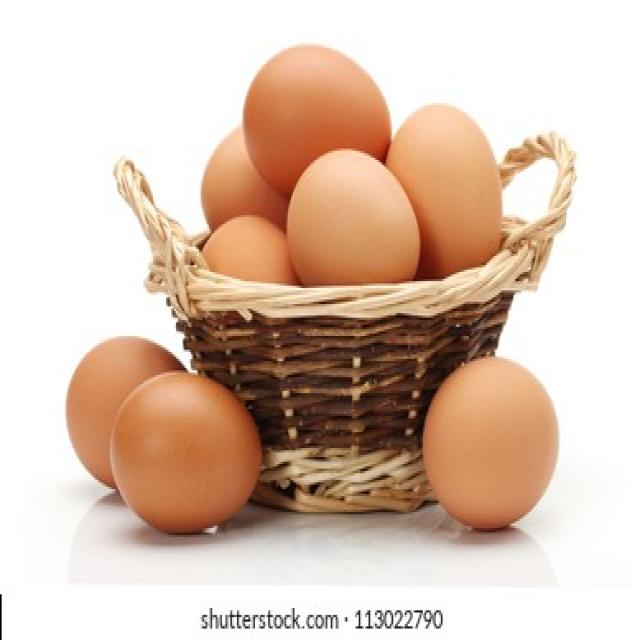Brown Egg: (417, 351, 561, 536), (110, 361, 262, 536), (389, 94, 506, 270), (288, 144, 419, 290), (239, 38, 388, 159), (65, 338, 184, 453), (207, 212, 290, 300)
